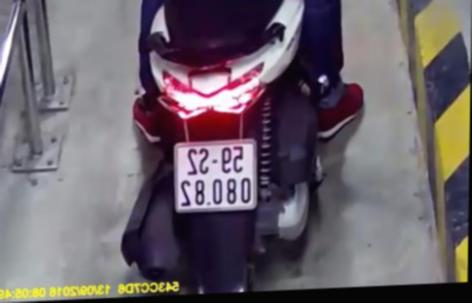License_Plate: (168, 134, 263, 217)
